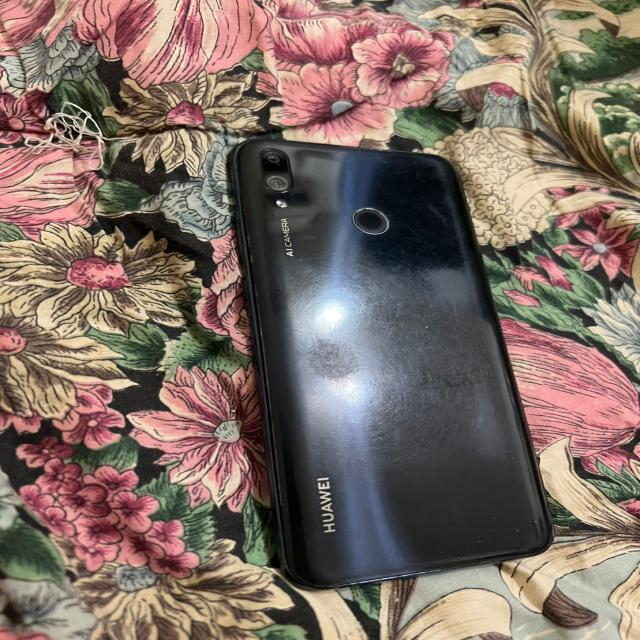Smartphone: (231, 139, 553, 589)
